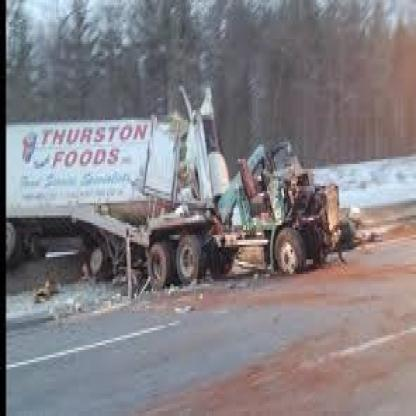accident: (3, 87, 386, 323)
